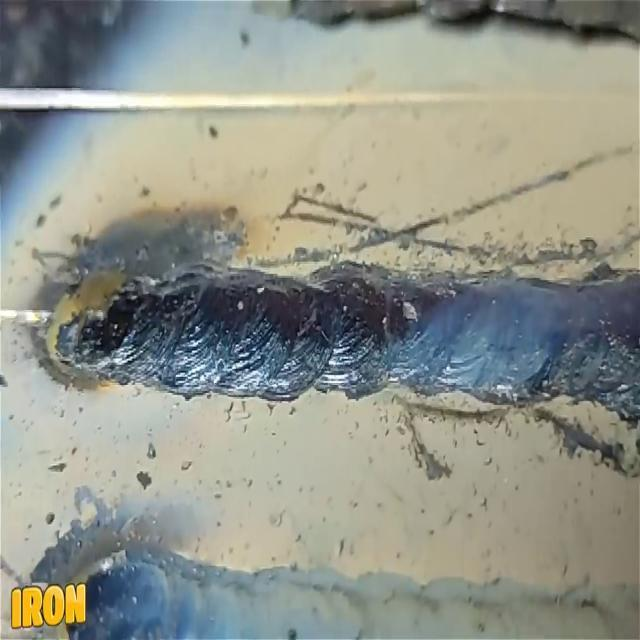Bad Welding: (59, 262, 640, 422)
